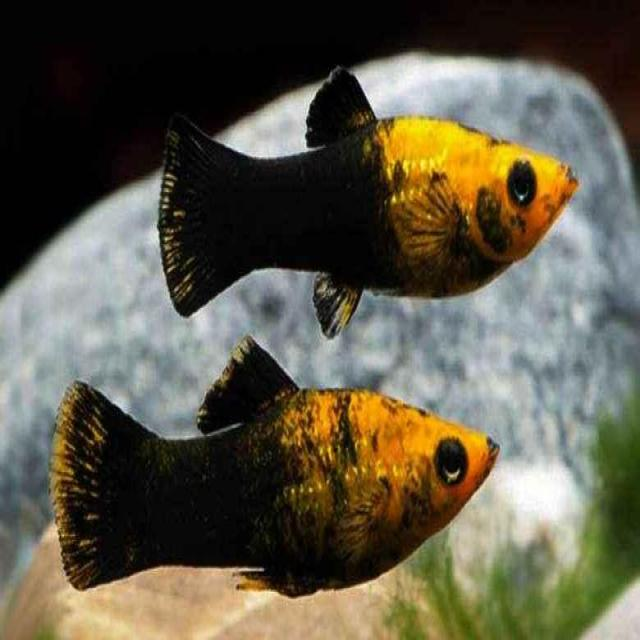PlatyFish: (152, 53, 586, 350), (46, 328, 503, 597)
